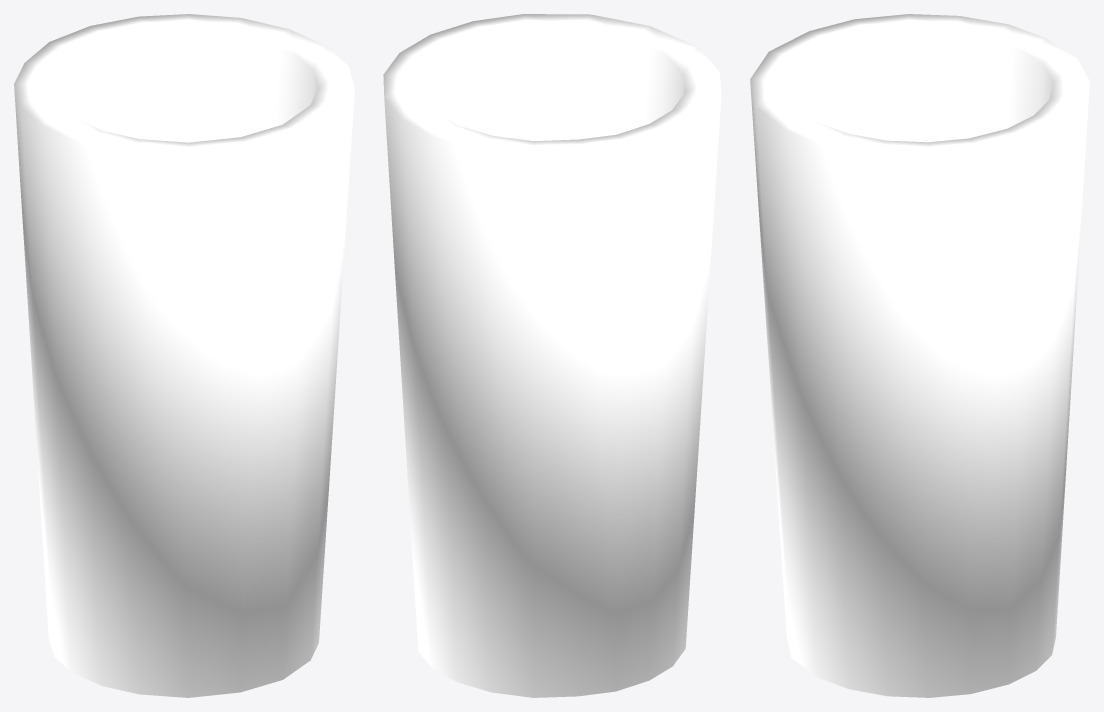
The model's file is 511d4ab4-498a-4f4f-bdf3-4a5279fddf43.glb.
3 renders of one model, left to right at view 1: azimuth 30°, elevation 25°; view 2: azimuth 150°, elevation 25°; view 3: azimuth 270°, elevation 25°, orthographic.
Visible parts, largest first — view 1: GlassCup.002; view 2: GlassCup.002; view 3: GlassCup.002.
Boxes of the visible parts, left/top/right/bottom form: GlassCup.002: left=14, top=14, right=354, bottom=697; GlassCup.002: left=383, top=14, right=721, bottom=697; GlassCup.002: left=750, top=14, right=1089, bottom=697.
Size of the model in its own units: 0.1404 by 0.2529 by 0.1402.
Materials: 1 (1 with a texture image).
